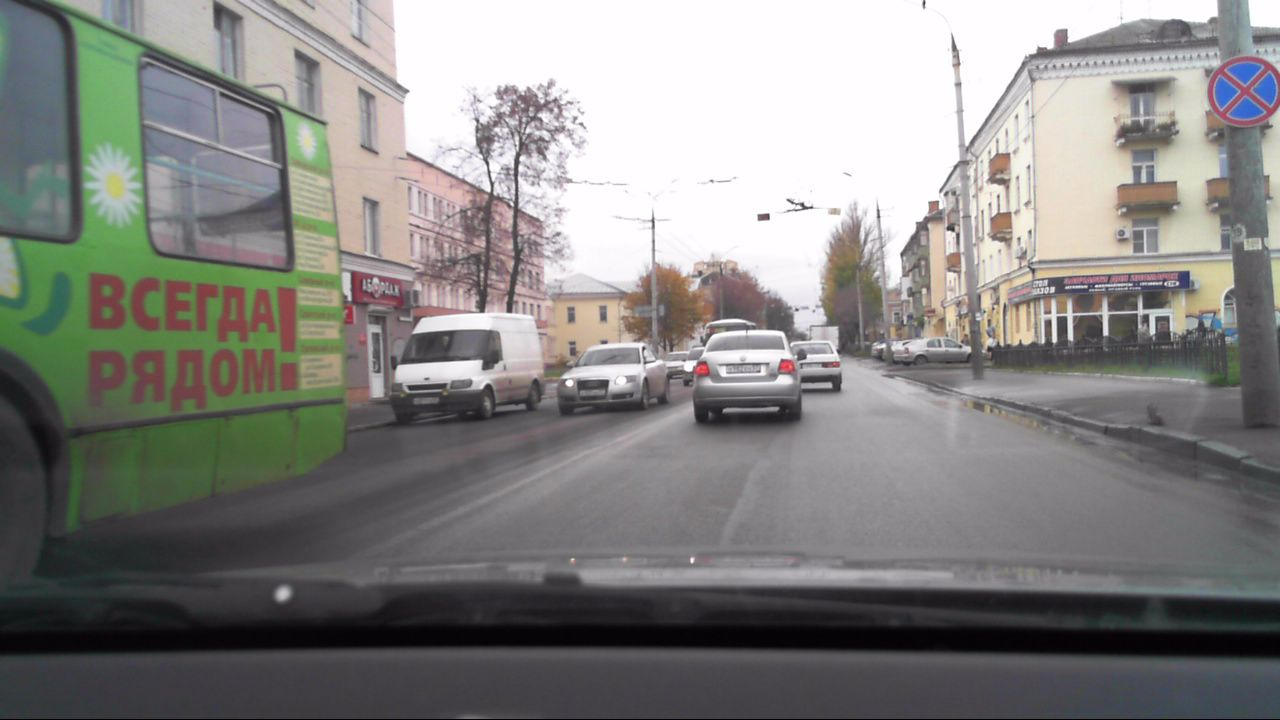No Parking: (1203, 49, 1279, 126)
